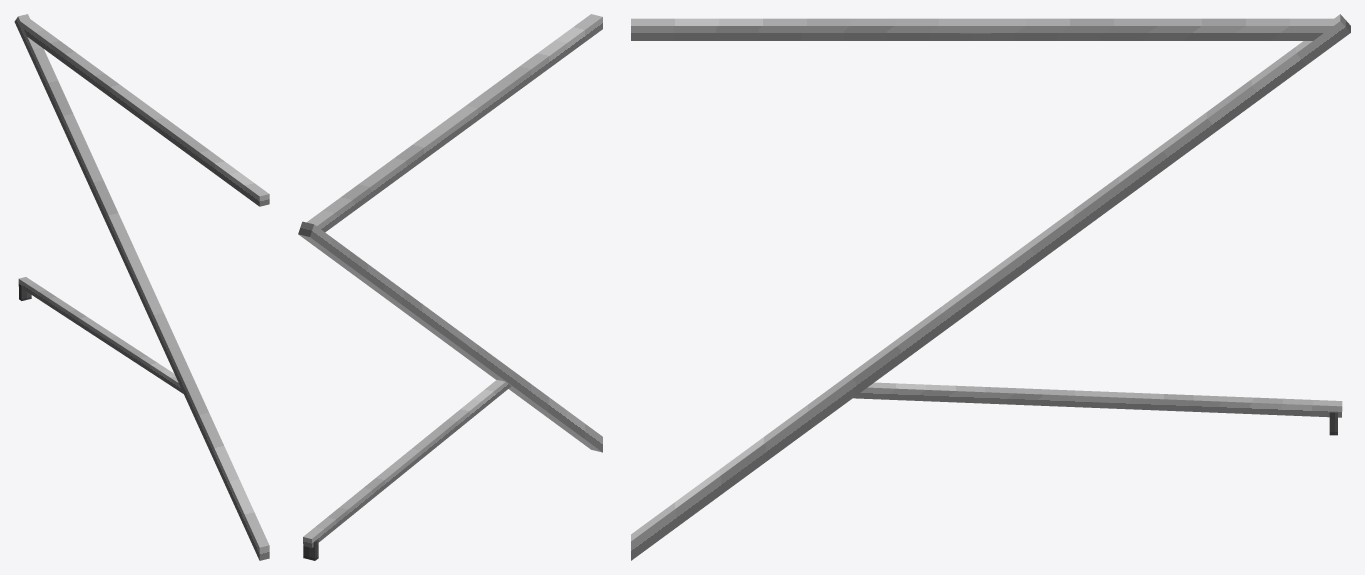
File: cantilever_center_12px.obj
The picture shows the model from 3 angles, left to right: view 1: azimuth 30°, elevation 25°; view 2: azimuth 150°, elevation 25°; view 3: azimuth 270°, elevation 25°; orthographic projection. The views are drawn at different scales.
Visible parts, largest first — view 1: 1211b8a1-2ea6-42f1-8718-c22775ea7aa8, 48fafaa1-cb02-4b56-a650-d7a07dfac535, 7a2e6d3b-3933-4cd0-baaa-46477bfa97d9; view 2: 48fafaa1-cb02-4b56-a650-d7a07dfac535, 1211b8a1-2ea6-42f1-8718-c22775ea7aa8, 7a2e6d3b-3933-4cd0-baaa-46477bfa97d9; view 3: 1211b8a1-2ea6-42f1-8718-c22775ea7aa8, 48fafaa1-cb02-4b56-a650-d7a07dfac535, 7a2e6d3b-3933-4cd0-baaa-46477bfa97d9.
Boxes of the visible parts, <box> form: 1211b8a1-2ea6-42f1-8718-c22775ea7aa8: <box>14,14,269,560</box>; 48fafaa1-cb02-4b56-a650-d7a07dfac535: <box>20,19,269,206</box>; 7a2e6d3b-3933-4cd0-baaa-46477bfa97d9: <box>18,277,183,393</box>; 48fafaa1-cb02-4b56-a650-d7a07dfac535: <box>306,14,602,232</box>; 1211b8a1-2ea6-42f1-8718-c22775ea7aa8: <box>298,221,602,452</box>; 7a2e6d3b-3933-4cd0-baaa-46477bfa97d9: <box>303,380,511,547</box>; 1211b8a1-2ea6-42f1-8718-c22775ea7aa8: <box>631,14,1350,560</box>; 48fafaa1-cb02-4b56-a650-d7a07dfac535: <box>631,18,1333,40</box>; 7a2e6d3b-3933-4cd0-baaa-46477bfa97d9: <box>853,382,1342,417</box>.
Size of the model in its own units: 0.0625 by 2.23 by 2.69.
